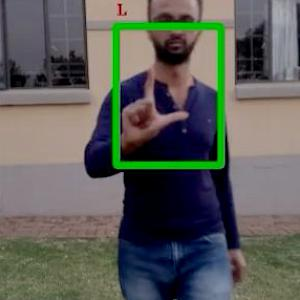land_hand: (113, 54, 191, 148)
